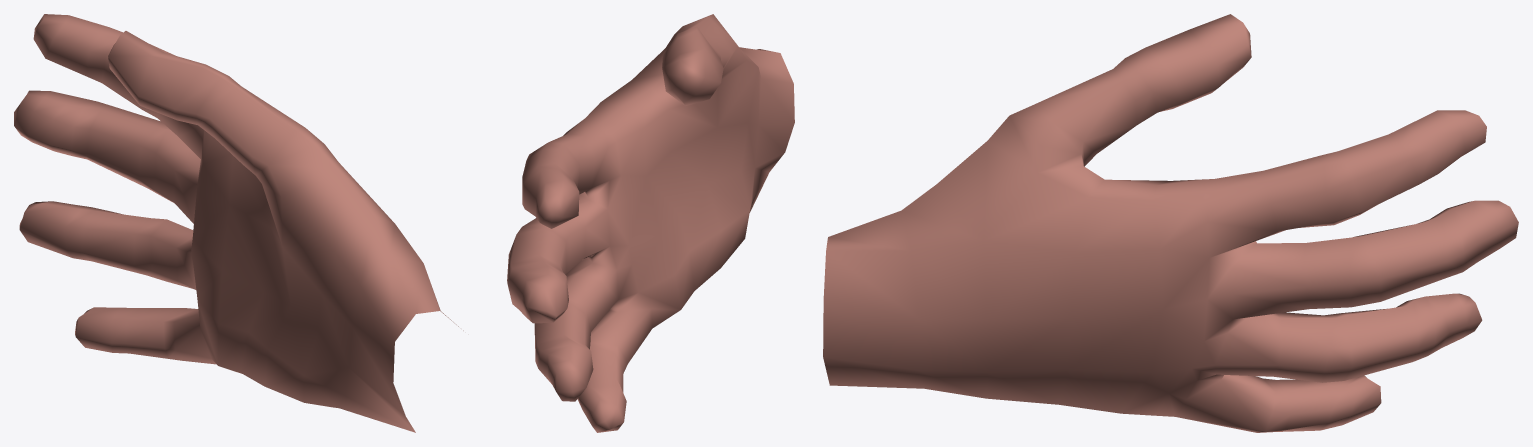
The model's file is man_hand_r.glb.
3 views of the same model, side by side, from view 1: azimuth 30°, elevation 25°; view 2: azimuth 150°, elevation 25°; view 3: azimuth 270°, elevation 25° (orthographic). The views are drawn at different scales.
Parts seen in each view (by area): view 1: Wolf3D_Body.001; view 2: Wolf3D_Body.001; view 3: Wolf3D_Body.001.
Part boxes in pixels (x1,y1,x2,y2): Wolf3D_Body.001: (14, 14, 463, 432); Wolf3D_Body.001: (507, 14, 794, 432); Wolf3D_Body.001: (823, 14, 1518, 432).
Size of the model in its own units: 1.05 by 2.01 by 3.32.
Materials: 1 (1 with a texture image).
